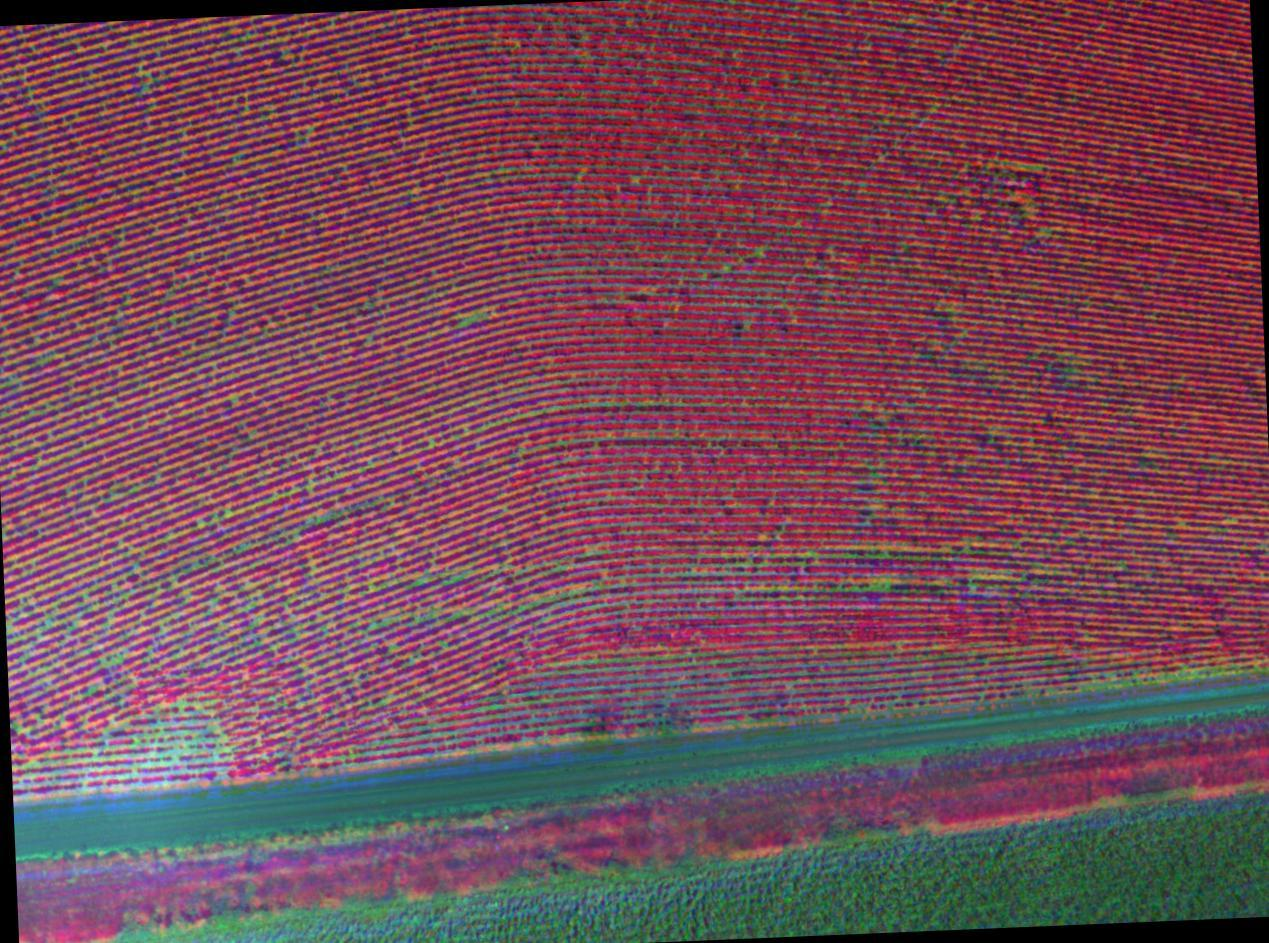dc: (1023, 164, 1031, 171), (464, 314, 472, 321), (884, 577, 890, 585), (807, 546, 812, 555), (756, 249, 762, 256), (873, 584, 879, 591), (480, 313, 485, 320), (867, 461, 872, 467), (140, 71, 145, 76)
